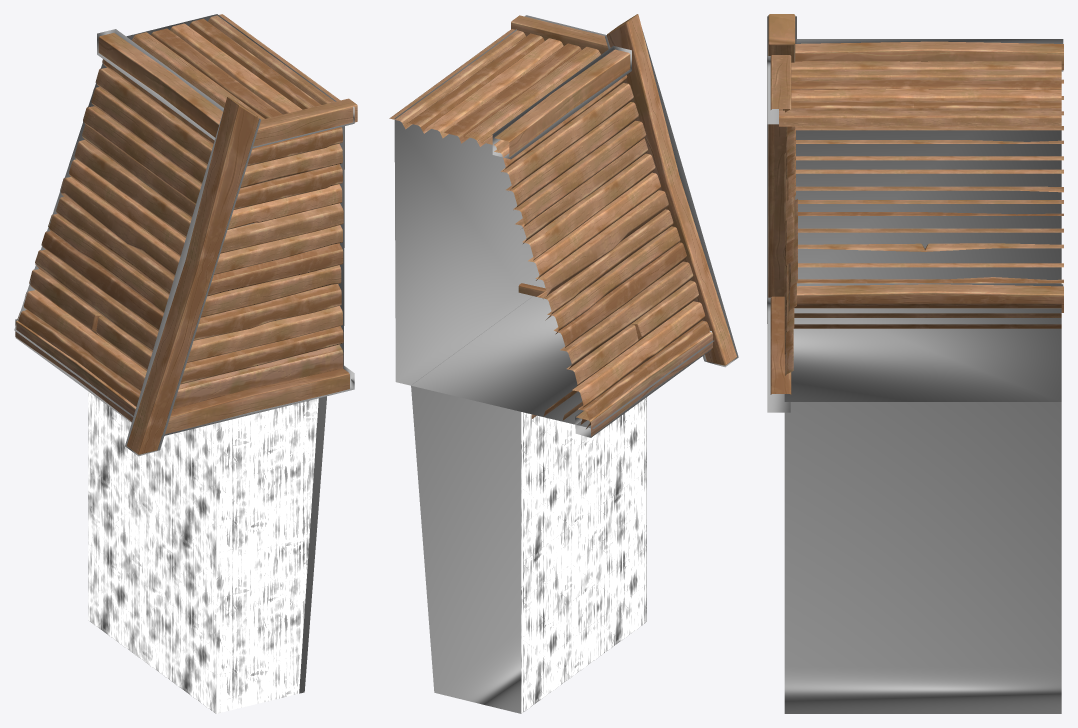
Rendered from SM_BuildingBase_05.gltf.
3 renders of one model, left to right at view 1: azimuth 30°, elevation 25°; view 2: azimuth 150°, elevation 25°; view 3: azimuth 270°, elevation 25°, orthographic. The views are drawn at different scales.
Parts seen in each view (by area): view 1: SM_BuildingBase_05_LOD0, SM_BuildingBase_05_ConvexHulls; view 2: SM_BuildingBase_05_LOD0, SM_BuildingBase_05_ConvexHulls; view 3: SM_BuildingBase_05_ConvexHulls, SM_BuildingBase_05_LOD0.
Boxes of the visible parts, box(x1,y1,x2,y2) form: SM_BuildingBase_05_LOD0: box(15, 14, 357, 713); SM_BuildingBase_05_ConvexHulls: box(14, 14, 354, 693); SM_BuildingBase_05_LOD0: box(389, 14, 736, 713); SM_BuildingBase_05_ConvexHulls: box(394, 15, 738, 713); SM_BuildingBase_05_ConvexHulls: box(767, 16, 1063, 713); SM_BuildingBase_05_LOD0: box(768, 14, 1063, 394).
Size of what is drawn, in the model's own units: 4.03 by 10.53 by 4.28.
Materials: 4 (3 with a texture image).
